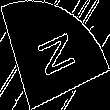N_W: (30, 26, 80, 84)
